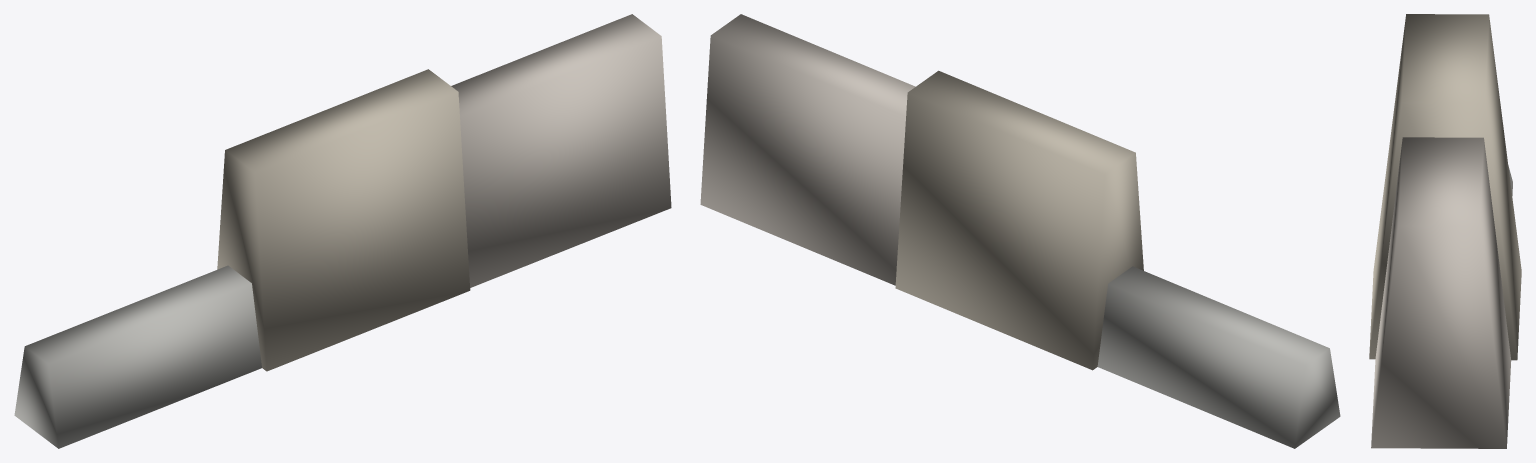
Rendered from farm_-19_-23_collision.glb.
3 views of the same model, side by side, from view 1: azimuth 30°, elevation 25°; view 2: azimuth 150°, elevation 25°; view 3: azimuth 270°, elevation 25° (orthographic). The views are drawn at different scales.
Visible parts, largest first — view 1: geometry_0; view 2: geometry_0; view 3: geometry_0.
Boxes of the visible parts, bbox=[...] form: geometry_0: bbox=[14, 14, 671, 448]; geometry_0: bbox=[700, 14, 1340, 448]; geometry_0: bbox=[1369, 14, 1521, 448].
Bounding box in the file's own units: 4.76 × 1.97 × 0.7669.
